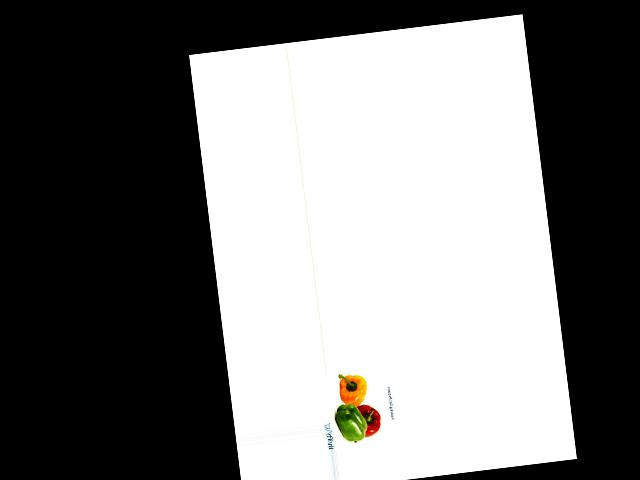bell_pepper: (330, 399, 368, 445)
